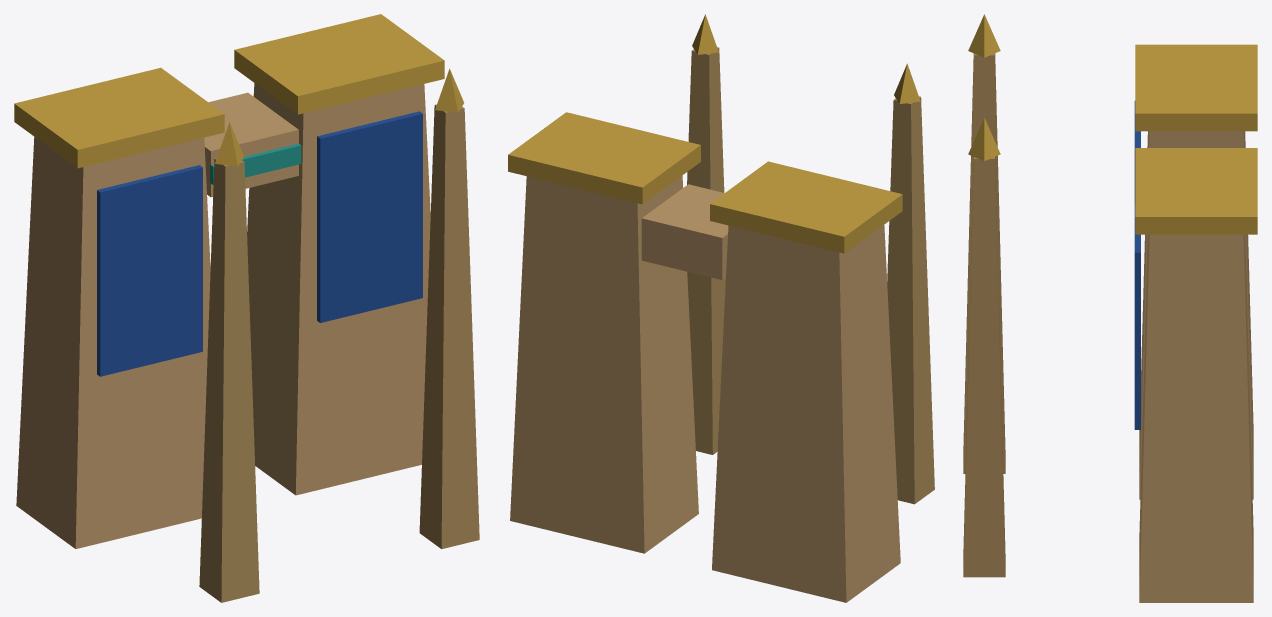
Rendered from gnoll_landmark_broken.glb.
3 renders of one model, left to right at view 1: azimuth 30°, elevation 25°; view 2: azimuth 150°, elevation 25°; view 3: azimuth 270°, elevation 25°, orthographic. The views are drawn at different scales.
Parts seen in each view (by area): view 1: gnoll_landmark_piece1, gnoll_landmark_piece8, gnoll_landmark_piece2, gnoll_landmark_piece4, gnoll_landmark_piece12, gnoll_landmark_piece7, gnoll_landmark_piece3, gnoll_landmark_piece0, gnoll_landmark_piece10, gnoll_landmark_piece6, gnoll_landmark_piece5, gnoll_landmark_piece11 (+1 smaller); view 2: gnoll_landmark_piece2, gnoll_landmark_piece4, gnoll_landmark_piece7, gnoll_landmark_piece9, gnoll_landmark_piece12, gnoll_landmark_piece11, gnoll_landmark_piece1, gnoll_landmark_piece3, gnoll_landmark_piece10, gnoll_landmark_piece0, gnoll_landmark_piece6, gnoll_landmark_piece5; view 3: gnoll_landmark_piece2, gnoll_landmark_piece8, gnoll_landmark_piece10, gnoll_landmark_piece6, gnoll_landmark_piece3, gnoll_landmark_piece11, gnoll_landmark_piece1, gnoll_landmark_piece9, gnoll_landmark_piece12, gnoll_landmark_piece4, gnoll_landmark_piece7, gnoll_landmark_piece5.
Part boxes in pixels (box(x1,y1,x2,y2)): gnoll_landmark_piece1: box(83, 117, 259, 602); gnoll_landmark_piece8: box(288, 148, 430, 448); gnoll_landmark_piece2: box(130, 14, 444, 285); gnoll_landmark_piece4: box(16, 265, 315, 547); gnoll_landmark_piece12: box(14, 108, 142, 397); gnoll_landmark_piece7: box(250, 287, 422, 495); gnoll_landmark_piece3: box(137, 83, 453, 333); gnoll_landmark_piece0: box(28, 256, 222, 602); gnoll_landmark_piece10: box(288, 65, 472, 343); gnoll_landmark_piece6: box(239, 298, 479, 545); gnoll_landmark_piece5: box(223, 280, 453, 549); gnoll_landmark_piece11: box(14, 75, 142, 125); gnoll_landmark_piece2: box(508, 112, 785, 470); gnoll_landmark_piece4: box(678, 289, 898, 602); gnoll_landmark_piece7: box(552, 344, 769, 584); gnoll_landmark_piece9: box(510, 329, 729, 530); gnoll_landmark_piece12: box(792, 191, 902, 426); gnoll_landmark_piece11: box(691, 183, 849, 350); gnoll_landmark_piece1: box(828, 179, 934, 500); gnoll_landmark_piece3: box(678, 63, 924, 272); gnoll_landmark_piece10: box(586, 14, 724, 192); gnoll_landmark_piece0: box(823, 344, 934, 563); gnoll_landmark_piece6: box(687, 272, 725, 437); gnoll_landmark_piece5: box(695, 201, 925, 454); gnoll_landmark_piece2: box(1134, 88, 1257, 561); gnoll_landmark_piece8: box(1134, 287, 1232, 602); gnoll_landmark_piece10: box(968, 118, 1166, 386); gnoll_landmark_piece6: box(963, 183, 1005, 577); gnoll_landmark_piece3: box(968, 14, 1200, 393); gnoll_landmark_piece11: box(1152, 44, 1257, 258); gnoll_landmark_piece1: box(963, 51, 1196, 473); gnoll_landmark_piece9: box(1182, 258, 1253, 602); gnoll_landmark_piece12: box(1134, 44, 1245, 288); gnoll_landmark_piece4: box(1139, 234, 1253, 499); gnoll_landmark_piece7: box(1139, 334, 1253, 602); gnoll_landmark_piece5: box(963, 162, 1005, 564).
Bounding box in the file's own units: 2.5 × 3.05 × 1.8.
